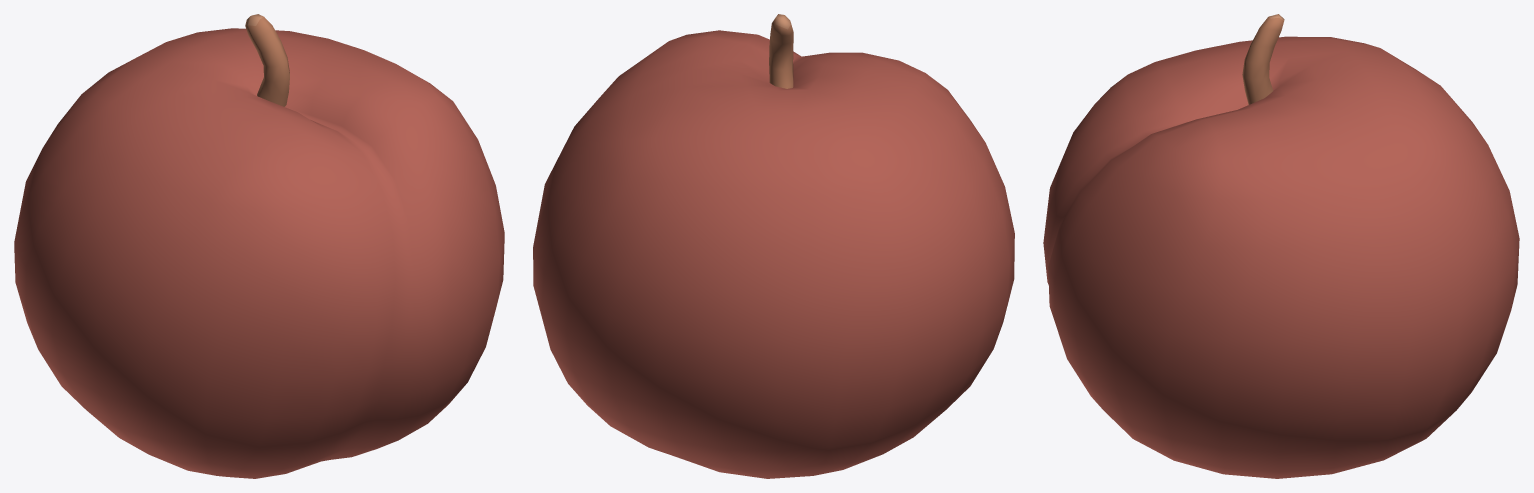
The model's file is Plum_02.dae.
The picture shows the model from 3 angles, left to right: view 1: azimuth 30°, elevation 25°; view 2: azimuth 150°, elevation 25°; view 3: azimuth 270°, elevation 25°; orthographic projection.
Parts seen in each view (by area): view 1: Plum_02_LOD0; view 2: Plum_02_LOD0; view 3: Plum_02_LOD0.
Boxes of the visible parts, x1,y1,x2,y2 form: Plum_02_LOD0: (14, 14, 504, 478); Plum_02_LOD0: (533, 14, 1014, 478); Plum_02_LOD0: (1043, 14, 1519, 478).
Size of what is drawn, in the model's own units: 4.3 by 4.26 by 4.32.
